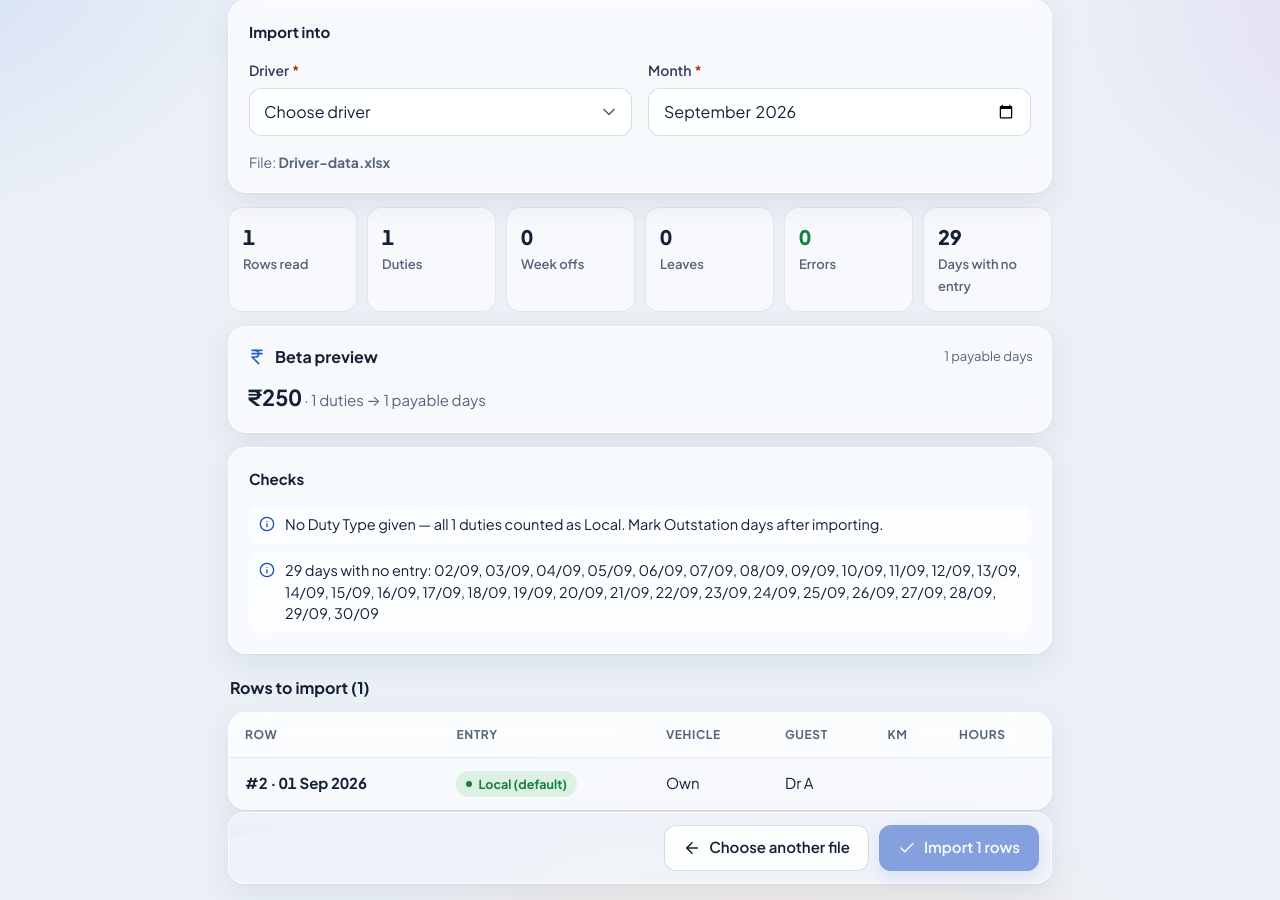
Scenario: Import review › needs a driver and a month
Check: the button "Import 1 rows" is disabled, box [879,825,1039,871]
Select "VIGNESH.P" in the dropdown labelled "Driver*" at (440, 112), box [249,88,632,136]
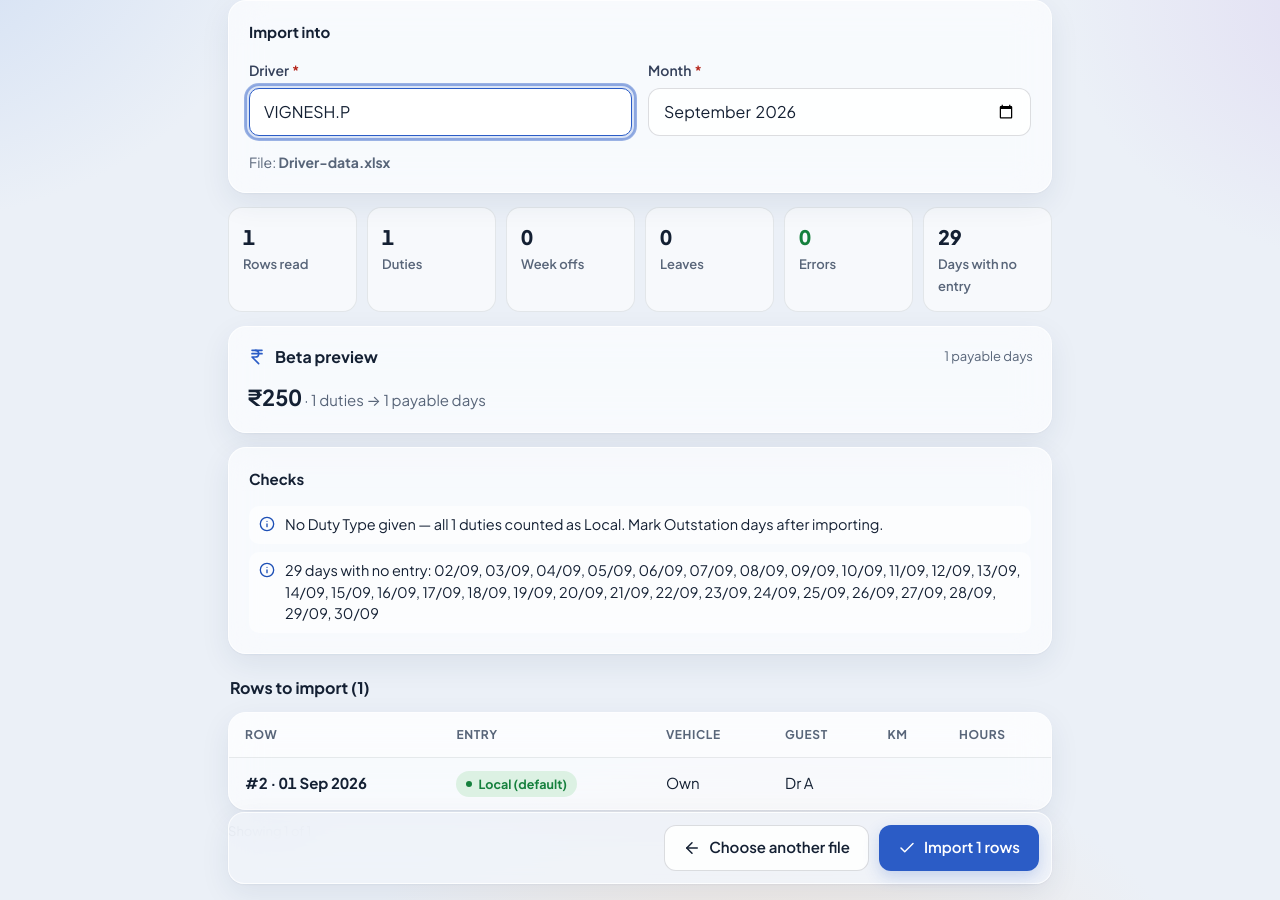
Check: the button "Import 1 rows" is enabled, box [879,825,1039,871]
